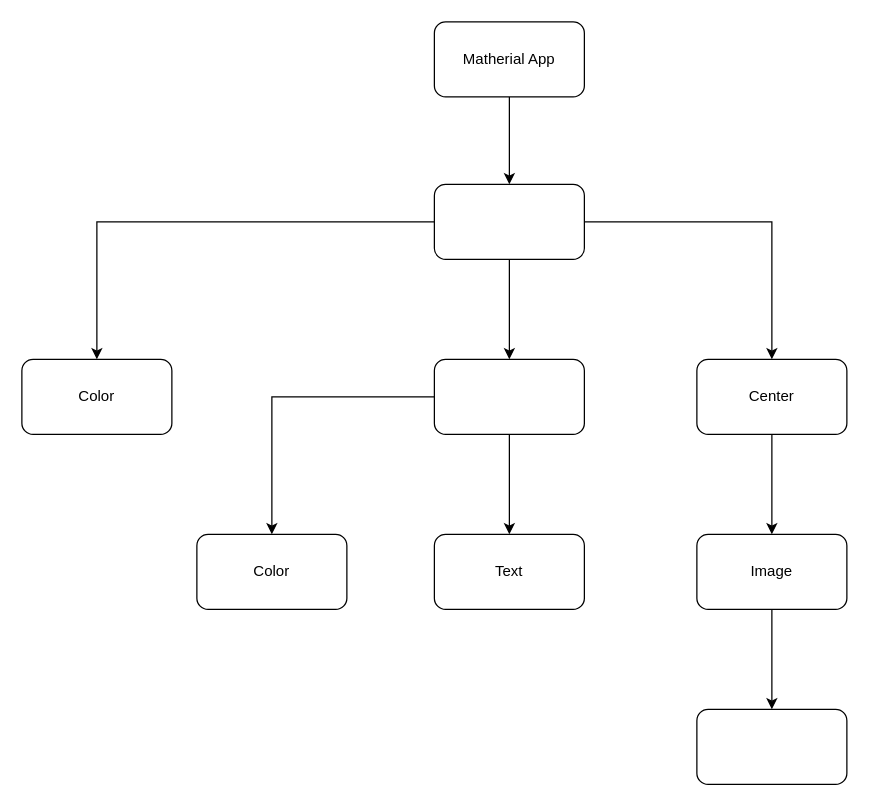
This 869x806 diagram has some shape labels left out. Each missing label, with the box of its shape:
AppBar: (433, 358, 584, 434)
NetworkImage: (696, 708, 847, 784)
Scaffold: (433, 183, 584, 259)
